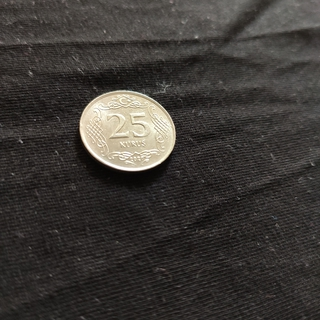25KURUS: (76, 88, 177, 174)
